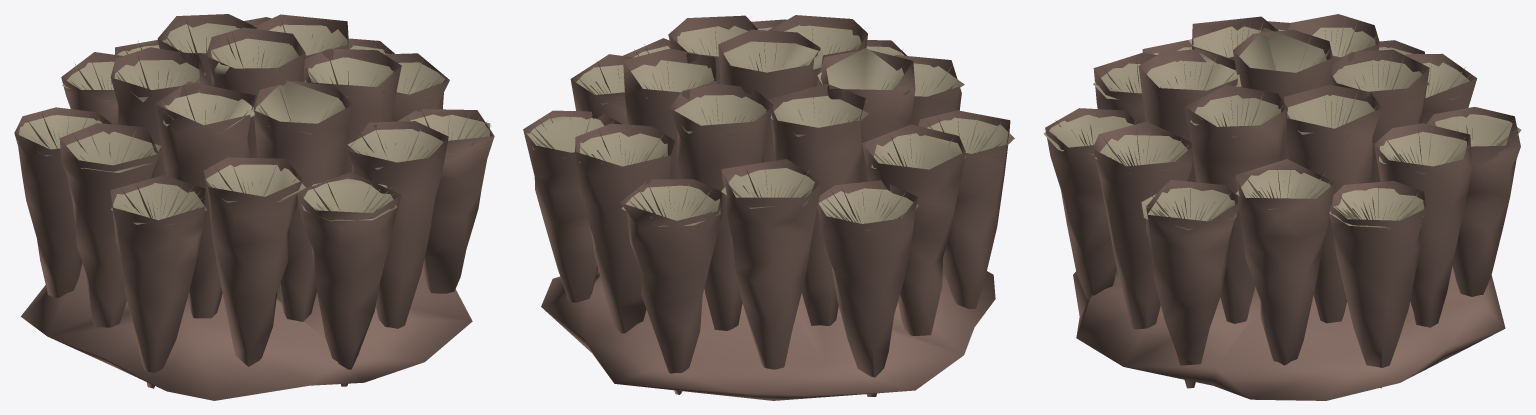
The model's file is devonian-rugose.glb.
3 views of the same model, side by side, from view 1: azimuth 30°, elevation 25°; view 2: azimuth 150°, elevation 25°; view 3: azimuth 270°, elevation 25° (orthographic).
Parts seen in each view (by area): view 1: devonian-rugose; view 2: devonian-rugose; view 3: devonian-rugose.
Part boxes in pixels (<box>): devonian-rugose: <box>14,14,494,400</box>; devonian-rugose: <box>523,15,1014,400</box>; devonian-rugose: <box>1043,14,1521,400</box>.
Size of the model in its own units: 0.8246 by 0.55 by 0.8708.
